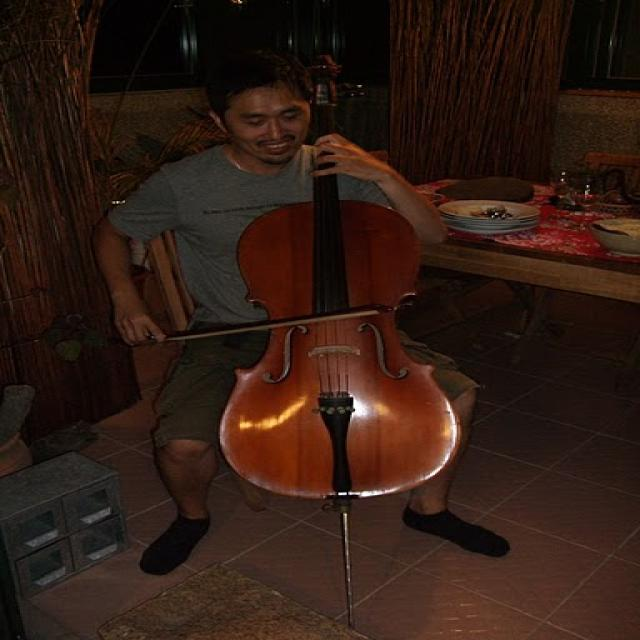cello: (211, 53, 466, 505)
